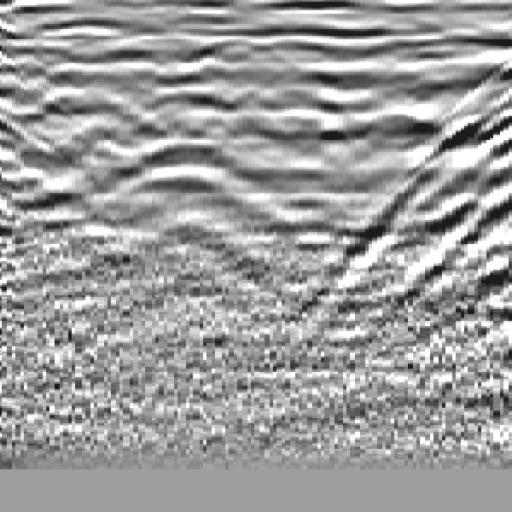metalic: (91, 29, 287, 263)
nonmetalic: (361, 37, 512, 288)
